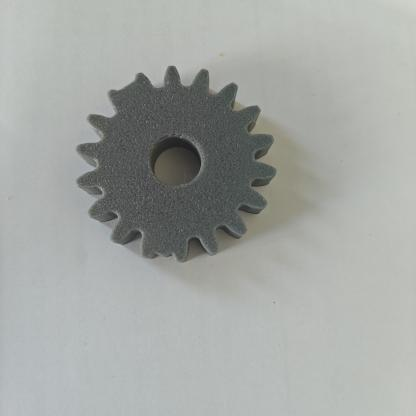defect: (120, 198, 209, 280), (94, 58, 176, 115)
gear: (52, 43, 298, 299)
